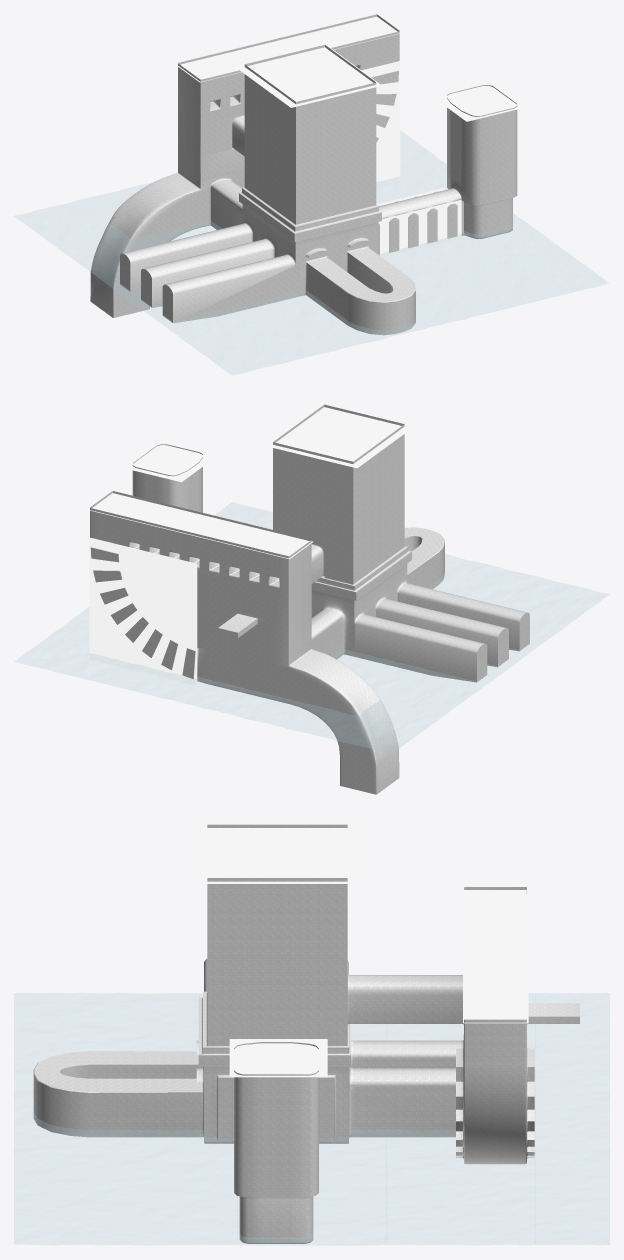
Rendered from poolrooms.glb.
3 renders of one model, top to bottom at view 1: azimuth 30°, elevation 25°; view 2: azimuth 150°, elevation 25°; view 3: azimuth 270°, elevation 25°, orthographic. The views are drawn at different scales.
Parts seen in each view (by area): view 1: poolrooms_0, Plane.007_9, Plane.005_6, Plane.001_3, Plane.003_4, Plane_1, Plane.006_7; view 2: poolrooms_0, Plane.007_9, Plane.004_5, Plane.005_6, Plane.001_3, Plane.006_7; view 3: poolrooms_0, Plane.007_9, Plane.005_6, Plane.001_3, Plane.006_7.
Boxes of the visible parts, x1,y1,x2,y2 form: poolrooms_0: [90, 14, 517, 335]; Plane.007_9: [15, 131, 608, 374]; Plane.005_6: [234, 44, 381, 107]; Plane.001_3: [176, 16, 400, 82]; Plane.003_4: [362, 61, 400, 188]; Plane_1: [378, 200, 461, 257]; Plane.006_7: [431, 81, 523, 121]; poolrooms_0: [90, 404, 529, 794]; Plane.007_9: [15, 502, 608, 753]; Plane.004_5: [89, 537, 197, 685]; Plane.005_6: [266, 404, 413, 468]; Plane.001_3: [88, 493, 313, 559]; Plane.006_7: [124, 442, 216, 482]; poolrooms_0: [33, 824, 579, 1243]; Plane.007_9: [14, 993, 609, 1245]; Plane.005_6: [200, 823, 356, 883]; Plane.001_3: [463, 889, 528, 1023]; Plane.006_7: [229, 1039, 327, 1077].
Bounding box in the file's own units: 95.06 × 63.3 × 95.06.
3 materials, 1 textured.
